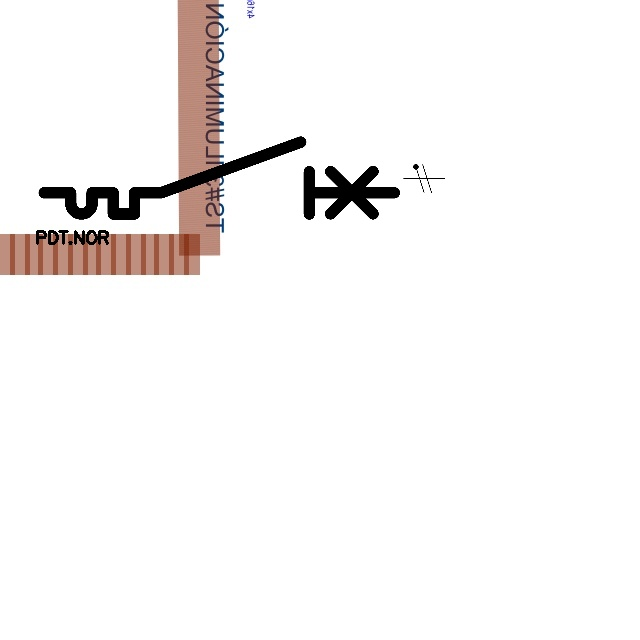interruptor_termomagnetico: (35, 133, 403, 223)
